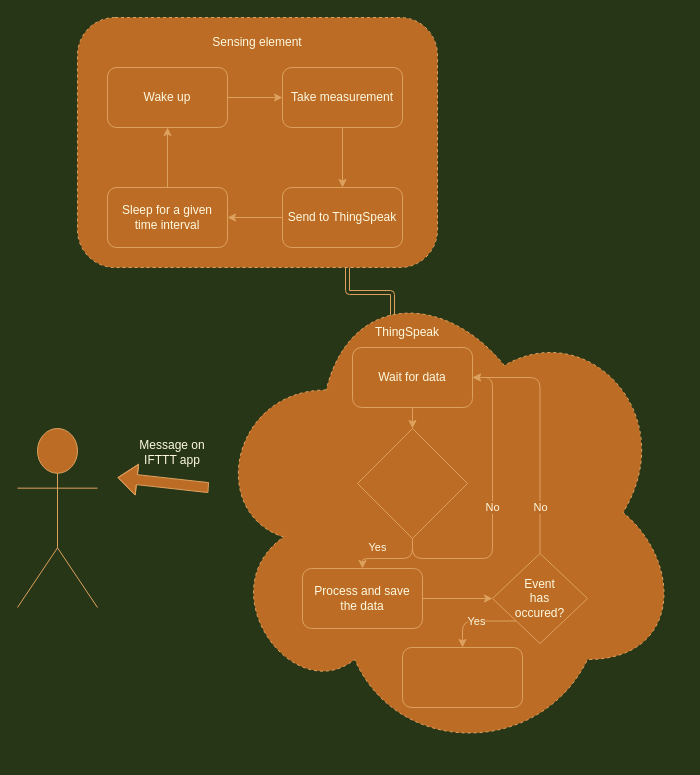
This 700x775 diagram has some shape labels left out. The shapes that lost their labels are listed below. From the top down, each one's box as (x1, y1, x2, y2) in pixels, then its label:
(356, 428, 468, 538): Data acquired?
(16, 428, 98, 608): User
(402, 646, 522, 708): Send notification
